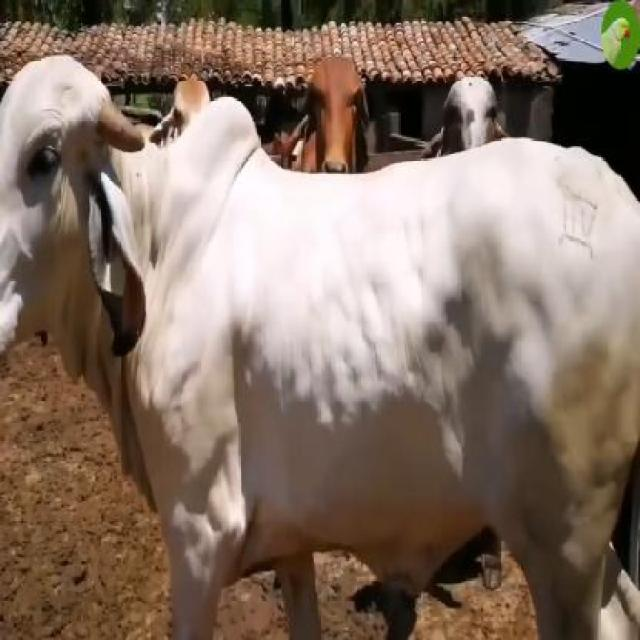Cow: (0, 56, 638, 638)
